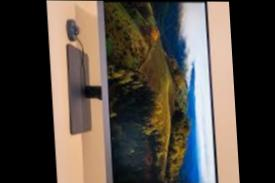monitor: (91, 1, 221, 183)
